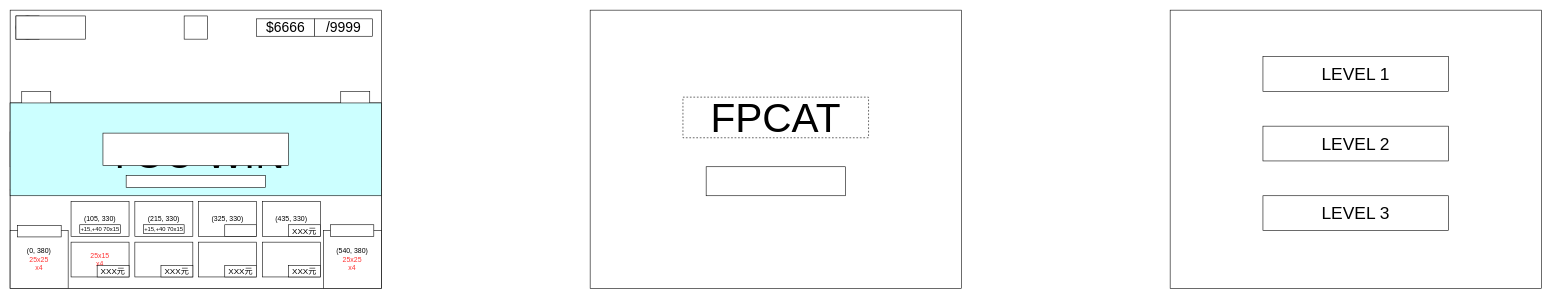
Some shapes in this 1552 by 299 pixel diagram are drawn without their labels. Here are the shapes that lost their labels. From the top down, the centre of each, then its label:
At (50,27): "Level".
At (775,181): "GAME START".
At (39,231): "Level N".
At (240,230): "$XXX".
At (352,230): "Launch".
